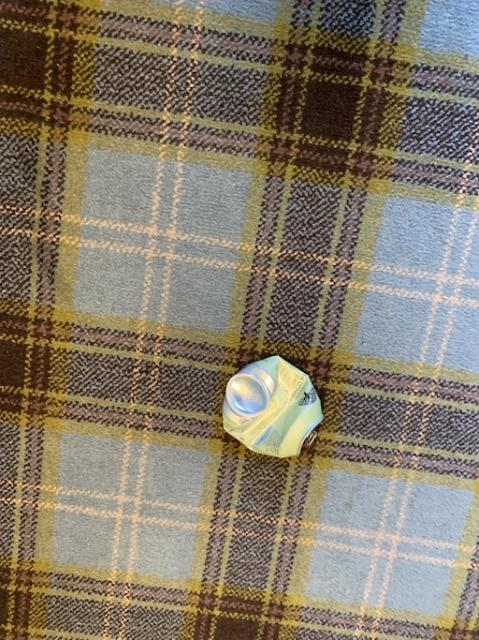metal: (222, 355, 322, 456)
